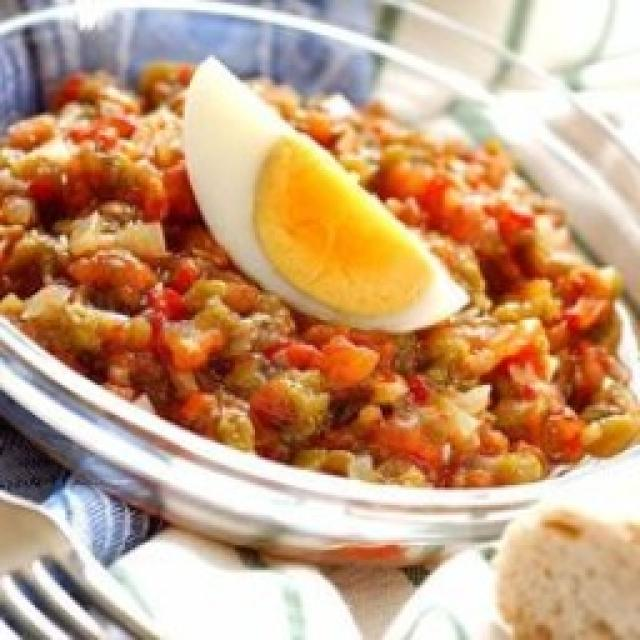Salade mechweya: (0, 59, 640, 486)
